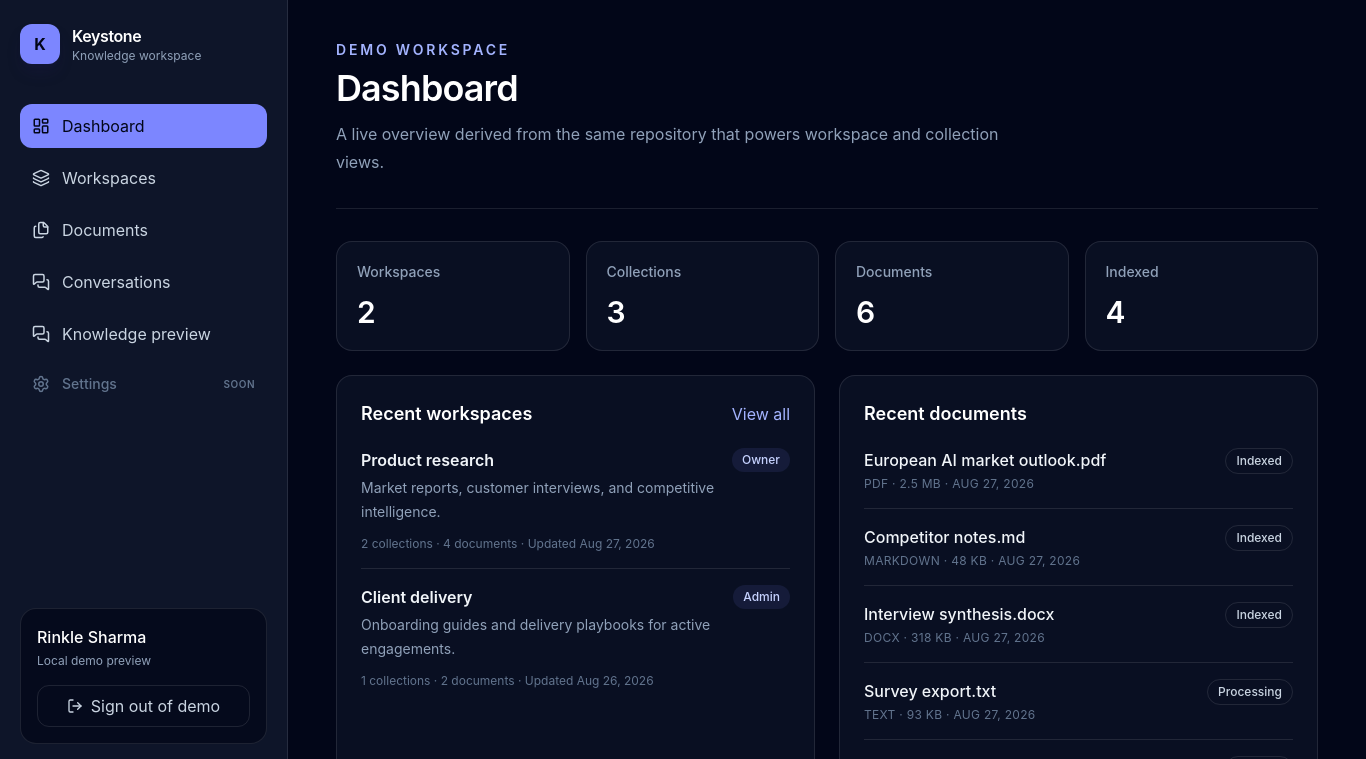
AppShell › ends the demo session and returns to login
Step 1. Click the button "Sign out of demo" → (144, 706), box [37,685,250,727]
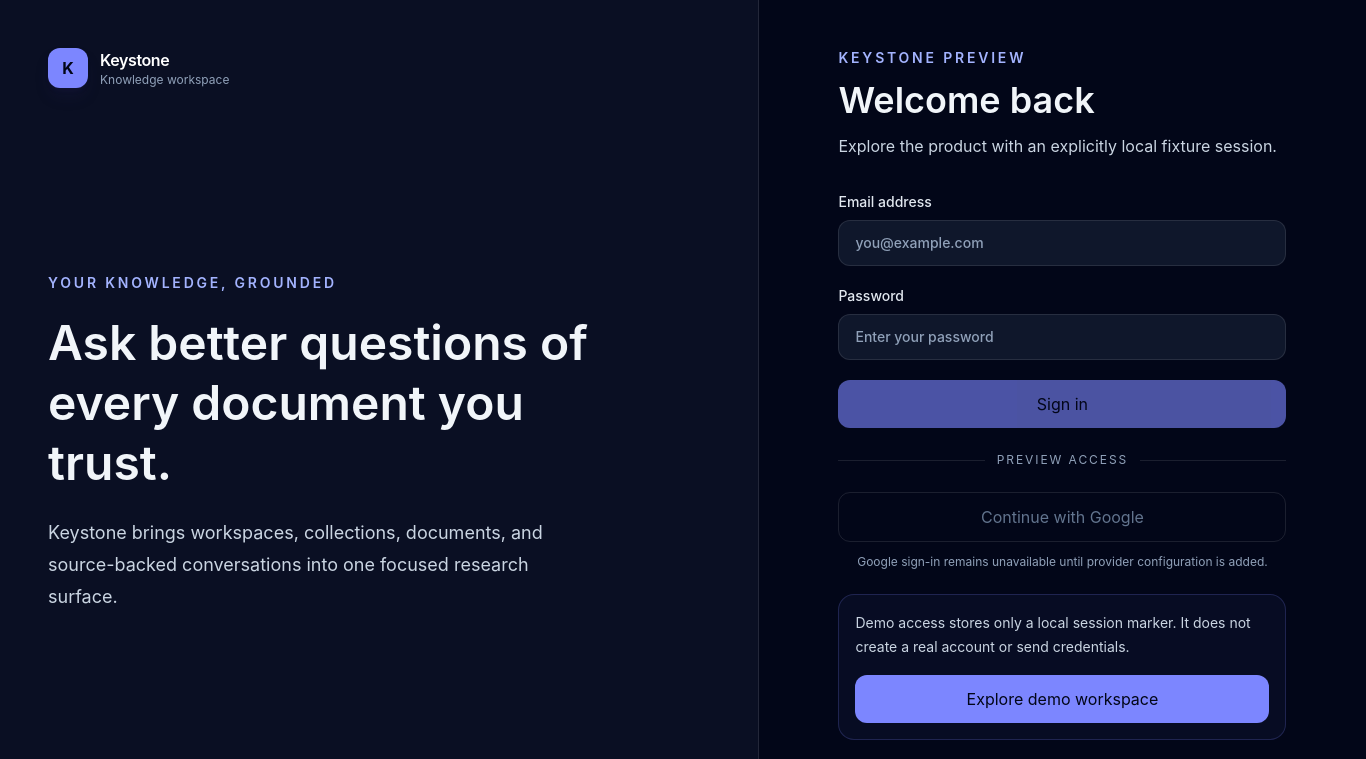
Check: the heading "Welcome back" is shown, box [838,78,1095,122]
